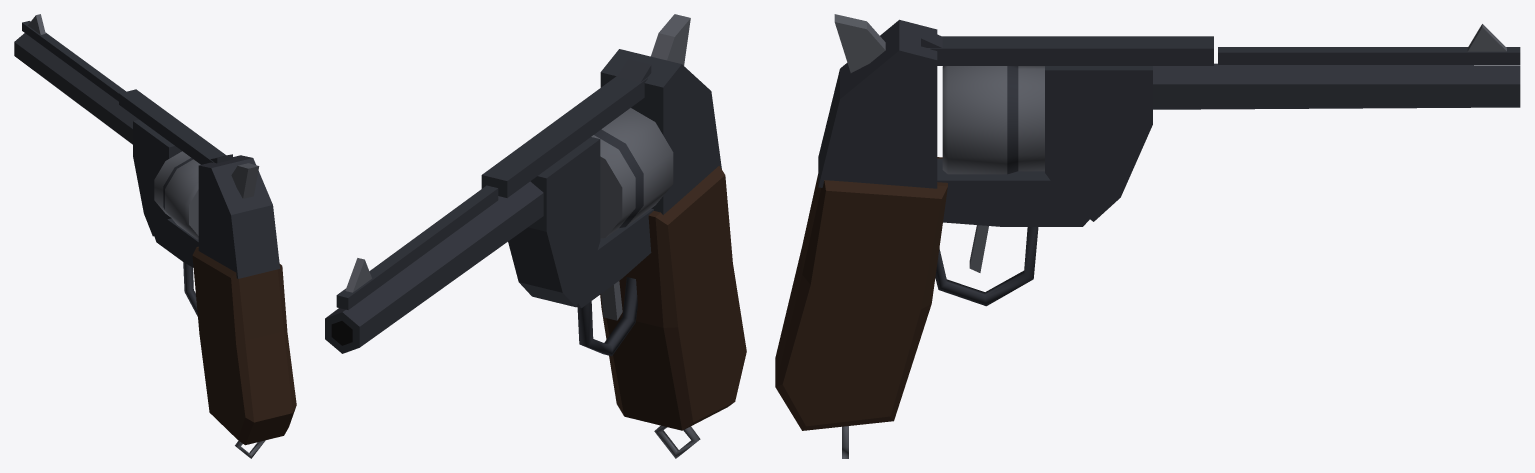
Rendered from revolver.glb.
The picture shows the model from 3 angles, left to right: view 1: azimuth 30°, elevation 25°; view 2: azimuth 150°, elevation 25°; view 3: azimuth 270°, elevation 25°; orthographic projection. The views are drawn at different scales.
Parts seen in each view (by area): view 1: Body, Barrel; view 2: Body, Barrel; view 3: Body, Barrel.
Part boxes in pixels (bbox=[...]): Body: bbox=[152, 155, 296, 458]; Barrel: bbox=[14, 14, 232, 239]; Body: bbox=[576, 14, 746, 458]; Barrel: bbox=[325, 59, 673, 353]; Body: bbox=[775, 14, 1109, 458]; Barrel: bbox=[921, 24, 1520, 221].
Size of the model in its own units: 0.0403 by 0.1803 by 0.2762.
